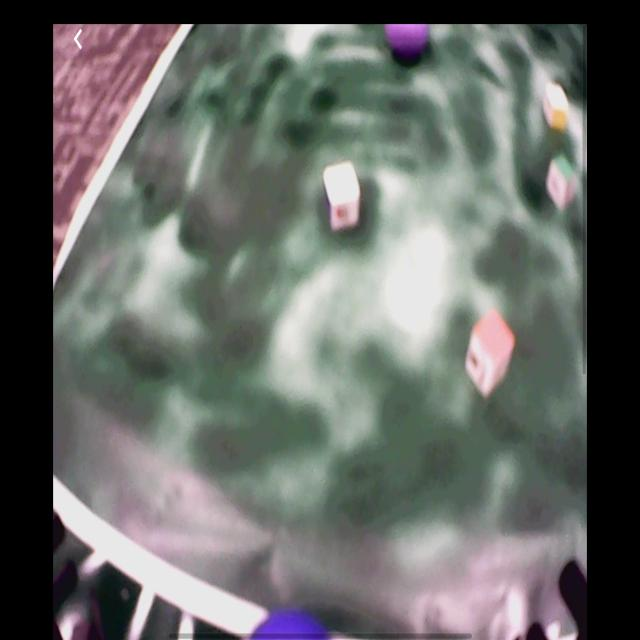ball: (248, 610, 331, 640), (384, 22, 430, 58)
